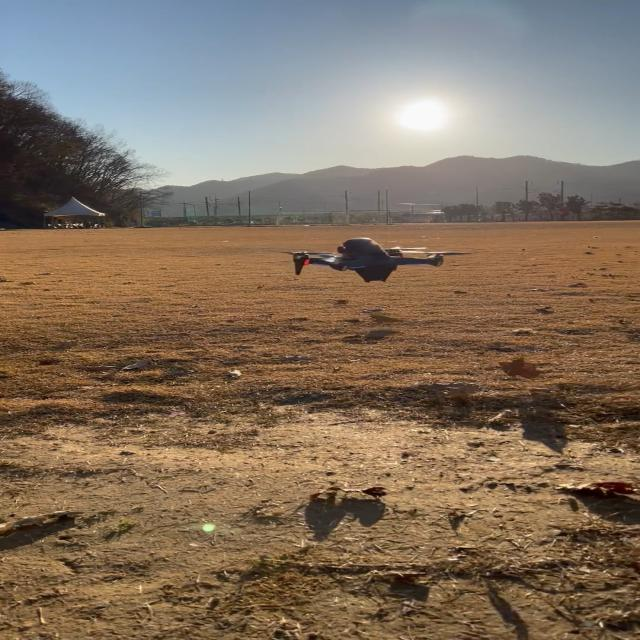drone: (279, 237, 471, 282)
